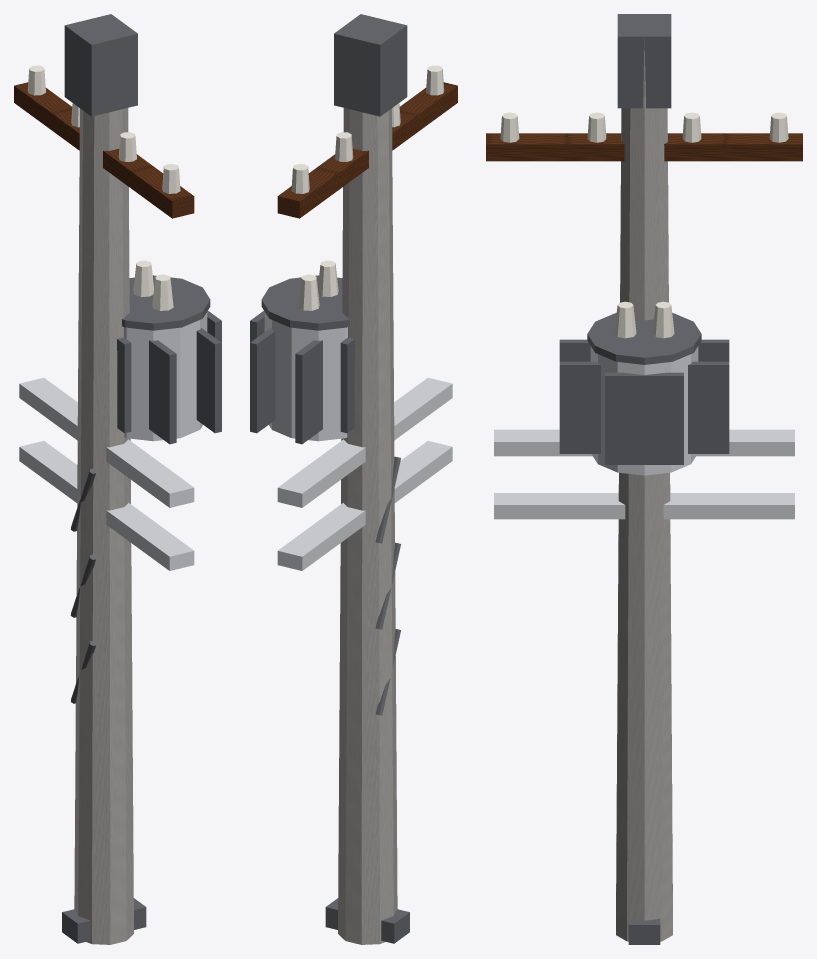
Rendered from utility_pole_with_transformer.glb.
The picture shows the model from 3 angles, left to right: view 1: azimuth 30°, elevation 25°; view 2: azimuth 150°, elevation 25°; view 3: azimuth 270°, elevation 25°; orthographic projection.
Visible parts, largest first — view 1: utility-pole-with-transformer-concrete, utility-pole-with-transformer-charcoal, utility-pole-with-transformer-steel, utility-pole-with-transformer-darkwood, utility-pole-with-transformer-cream; view 2: utility-pole-with-transformer-concrete, utility-pole-with-transformer-charcoal, utility-pole-with-transformer-steel, utility-pole-with-transformer-darkwood, utility-pole-with-transformer-cream; view 3: utility-pole-with-transformer-concrete, utility-pole-with-transformer-charcoal, utility-pole-with-transformer-steel, utility-pole-with-transformer-darkwood, utility-pole-with-transformer-cream.
Part boxes in pixels (<box>): utility-pole-with-transformer-concrete: <box>74,108,133,944</box>; utility-pole-with-transformer-charcoal: <box>62,14,221,943</box>; utility-pole-with-transformer-steel: <box>19,312,207,570</box>; utility-pole-with-transformer-darkwood: <box>14,82,194,218</box>; utility-pole-with-transformer-cream: <box>27,65,180,310</box>; utility-pole-with-transformer-concrete: <box>338,108,397,944</box>; utility-pole-with-transformer-charcoal: <box>250,14,409,943</box>; utility-pole-with-transformer-steel: <box>264,312,452,570</box>; utility-pole-with-transformer-darkwood: <box>277,82,457,218</box>; utility-pole-with-transformer-cream: <box>291,65,444,310</box>; utility-pole-with-transformer-concrete: <box>616,37,672,941</box>; utility-pole-with-transformer-charcoal: <box>559,14,729,944</box>; utility-pole-with-transformer-steel: <box>494,346,794,519</box>; utility-pole-with-transformer-darkwood: <box>486,133,802,161</box>; utility-pole-with-transformer-cream: <box>500,112,788,338</box>.
Size of the model in its own units: 0.97 by 6.3 by 2.
Materials: 5 (2 with a texture image).
